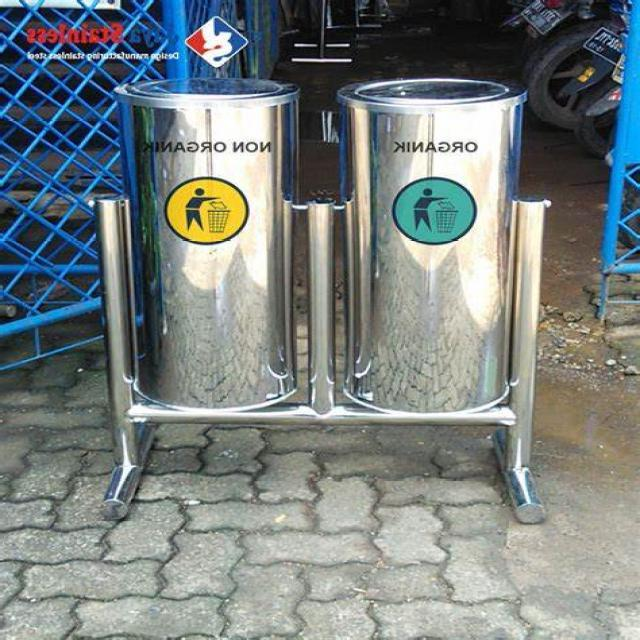garbage container: (298, 64, 570, 428), (106, 51, 316, 433)
